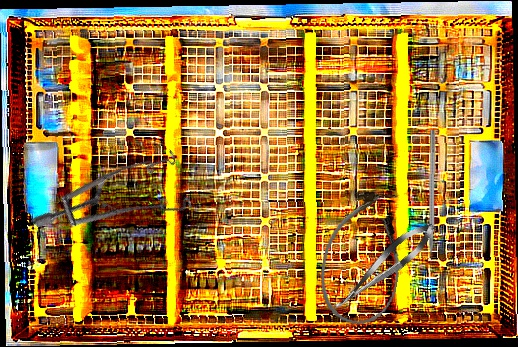Cannula: (312, 184, 414, 331)
Hook Surgical: (426, 129, 437, 276)
Micro Scissor: (325, 215, 442, 319)
Speculum: (31, 116, 210, 295)
